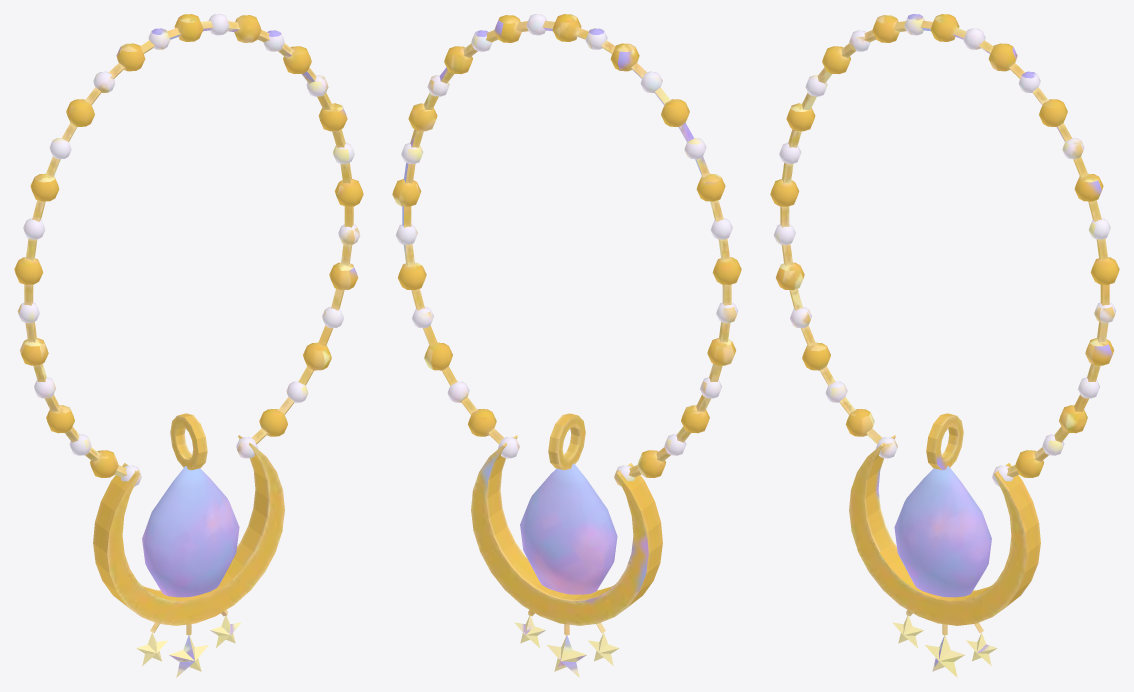
File: necklace.glb
The picture shows the model from 3 angles, left to right: view 1: azimuth 30°, elevation 25°; view 2: azimuth 150°, elevation 25°; view 3: azimuth 330°, elevation 25°; orthographic projection.
Parts seen in each view (by area): view 1: Necklace_Chain, Necklace_Setting, Necklace_Gem; view 2: Necklace_Chain, Necklace_Setting, Necklace_Gem; view 3: Necklace_Chain, Necklace_Setting, Necklace_Gem.
Boxes of the visible parts, x1,y1,x2,y2 form: Necklace_Chain: [14, 14, 363, 486]; Necklace_Setting: [93, 413, 284, 677]; Necklace_Gem: [142, 466, 239, 597]; Necklace_Chain: [392, 14, 741, 486]; Necklace_Setting: [471, 413, 662, 677]; Necklace_Gem: [520, 463, 617, 594]; Necklace_Chain: [770, 14, 1119, 486]; Necklace_Setting: [849, 413, 1040, 677]; Necklace_Gem: [894, 466, 991, 597].
Bounding box in the file's own units: 0.2261 × 0.4118 × 0.0372.
Materials: 1 (1 with a texture image).
